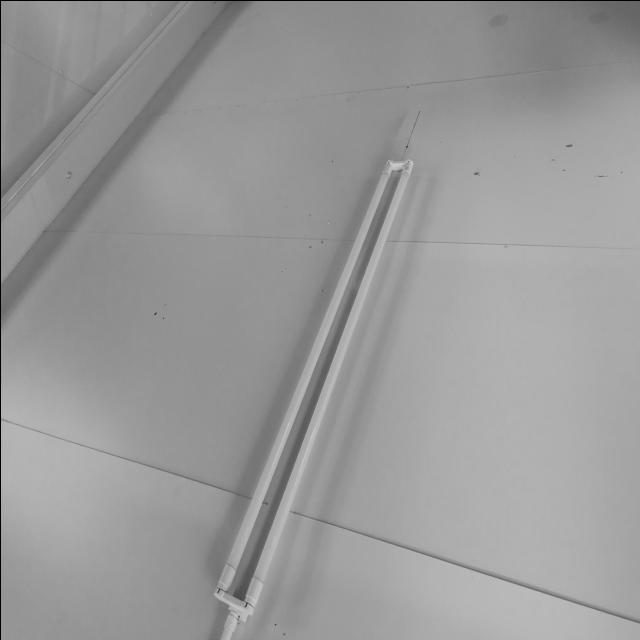light: (215, 155, 422, 622)
